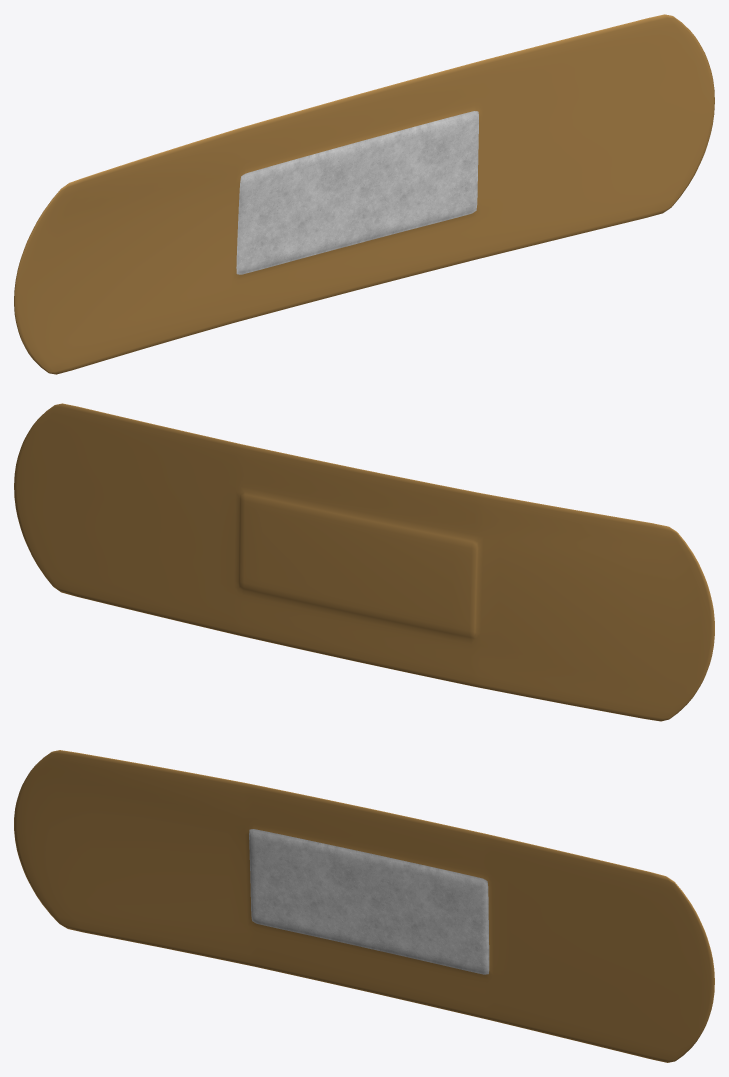
Rendered from bandage.glb.
3 renders of one model, top to bottom at view 1: azimuth 30°, elevation 25°; view 2: azimuth 150°, elevation 25°; view 3: azimuth 330°, elevation 25°, orthographic. The views are drawn at different scales.
Visible parts, largest first — view 1: Bandage; view 2: Bandage; view 3: Bandage.
Boxes of the visible parts, box(x1,y1,x2,y2) form: Bandage: box(14, 14, 714, 374); Bandage: box(14, 403, 714, 721); Bandage: box(14, 750, 714, 1062).
Bounding box in the file's own units: 705 × 189 × 47.13.
1 material, 1 textured.
